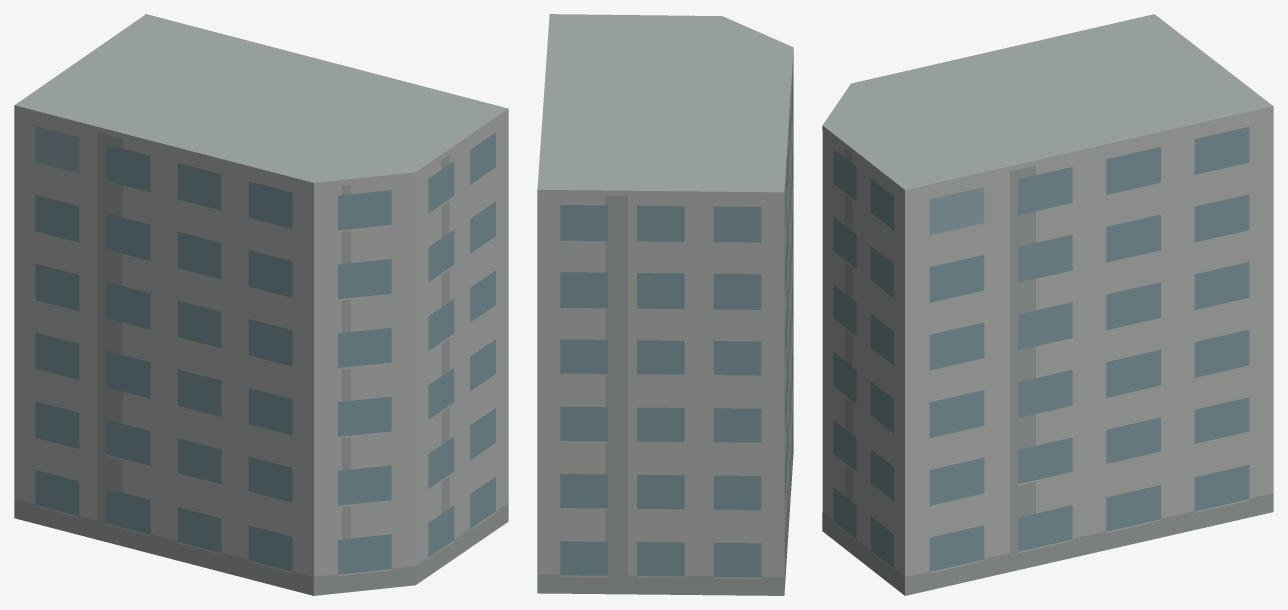
The model's file is survey-upis-32703234.glb.
3 views of the same model, side by side, from view 1: azimuth 30°, elevation 25°; view 2: azimuth 150°, elevation 25°; view 3: azimuth 270°, elevation 25° (orthographic). The views are drawn at different scales.
Visible parts, largest first — view 1: survey-upis-32703234.tmp; view 2: survey-upis-32703234.tmp; view 3: survey-upis-32703234.tmp.
Boxes of the visible parts, left/top/right/bottom form: survey-upis-32703234.tmp: left=14, top=14, right=508, bottom=595; survey-upis-32703234.tmp: left=537, top=14, right=793, bottom=595; survey-upis-32703234.tmp: left=822, top=14, right=1273, bottom=595.
Size of the model in its own units: 17.03 by 18.3 by 18.44.
